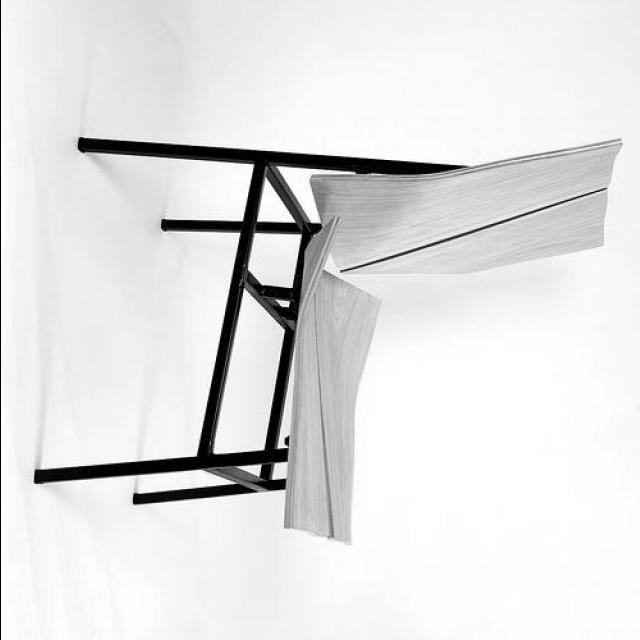chair: (34, 138, 620, 543)
